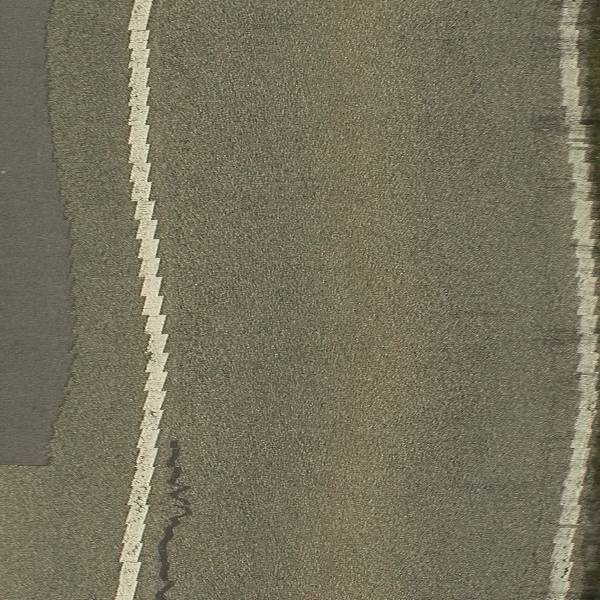road_damage: (151, 438, 196, 600)
